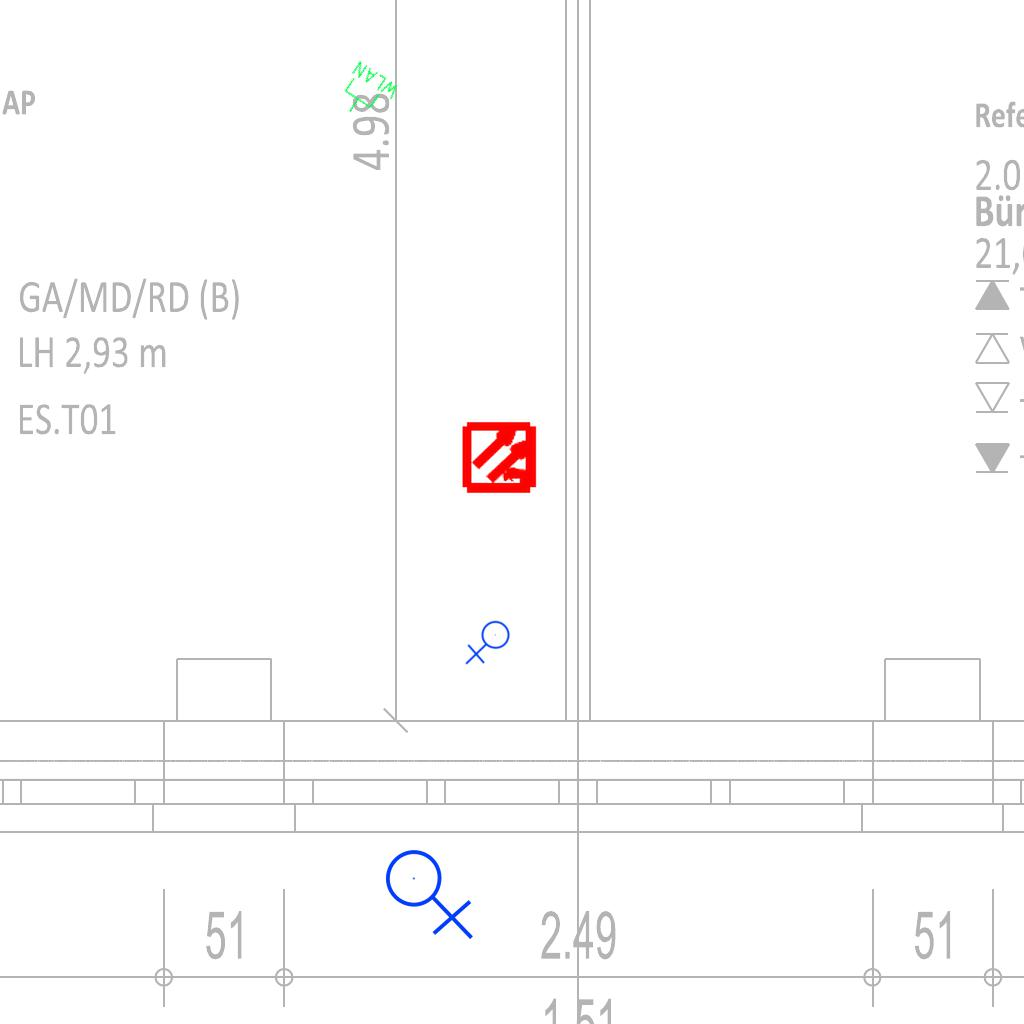Elektroanschluss_allgemein_230V_Geraeteanschlussdose_230V: (384, 841, 478, 940), (465, 620, 514, 667)
OT_Multisensormelder_(Kombination_RMO_WMD): (445, 401, 558, 514)
WLAN: (331, 58, 403, 130)
